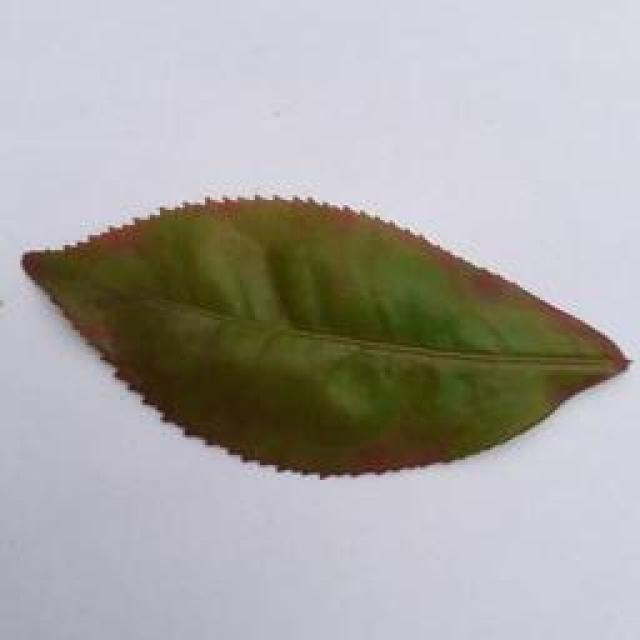Red Leaf Spot: (15, 172, 640, 518)
